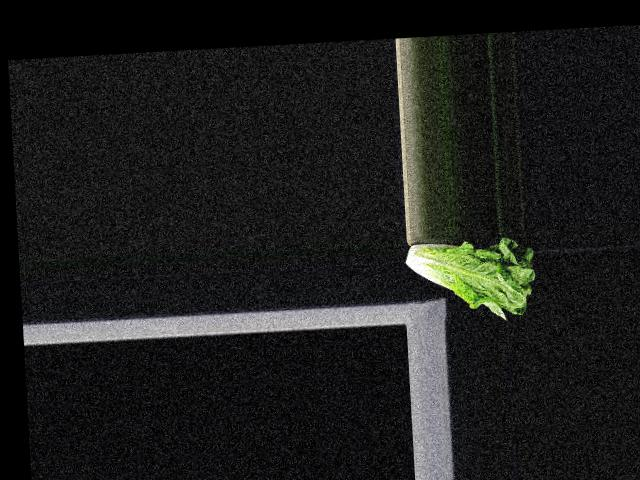lettuce: (403, 235, 539, 324)
